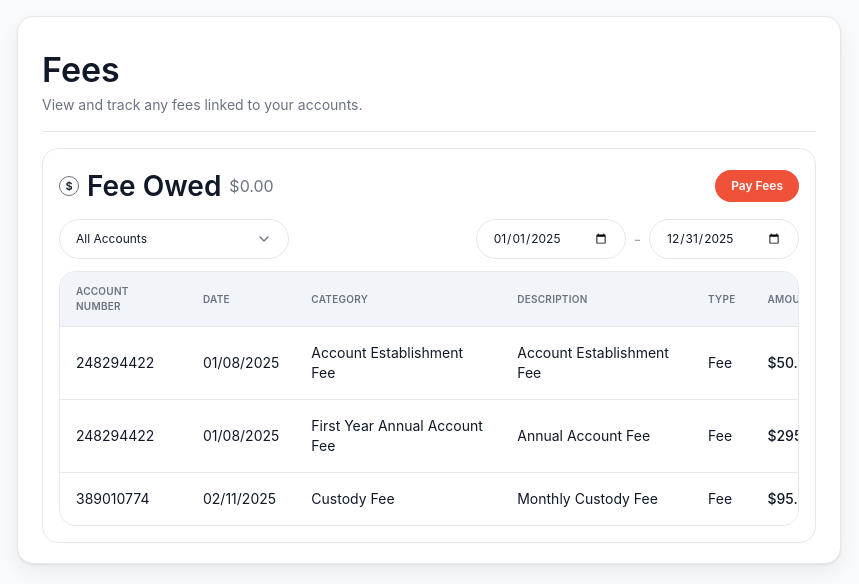
FeesPage › keeps date boundaries inclusive
Step 1. Type "2025-01-08" into the date field named "From date" → (551, 239), box 493,230 -> 609,248
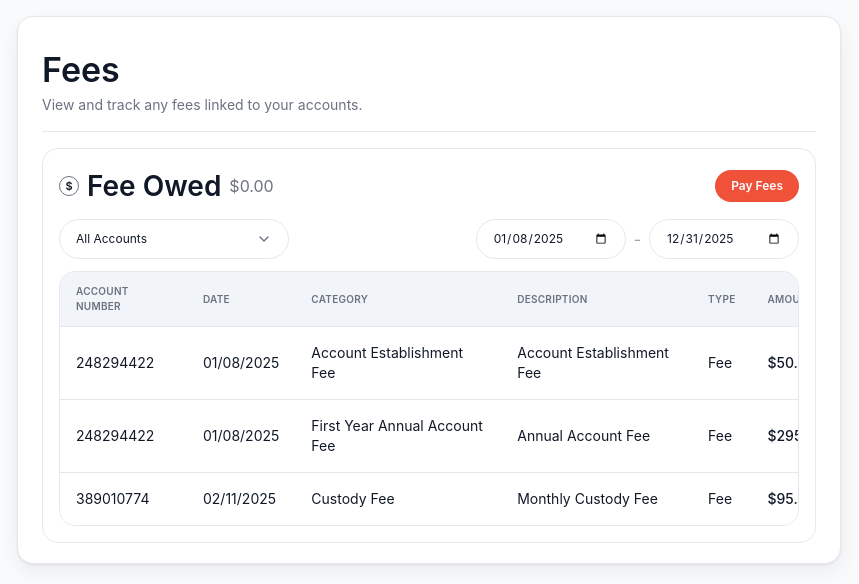
Step 2. Type "2025-01-08" into the date field named "To date" → (724, 239), box 666,230 -> 782,248
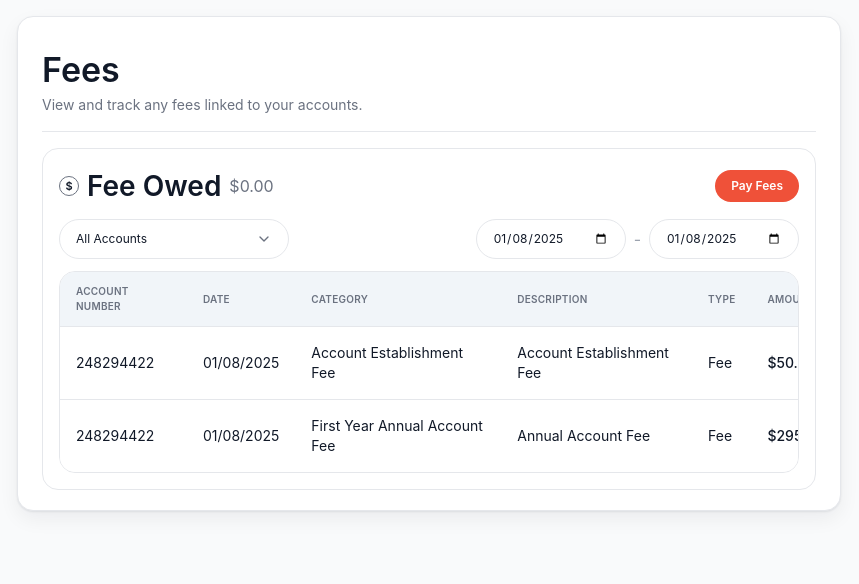
Now the text "248294422" is shown 2 times, box 60,326 -> 187,400; 60,400 -> 187,472
